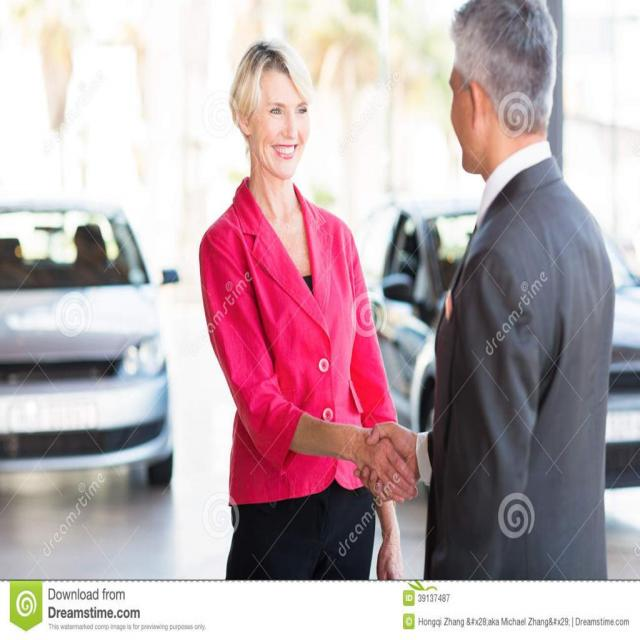nomask: (252, 70, 310, 178)
